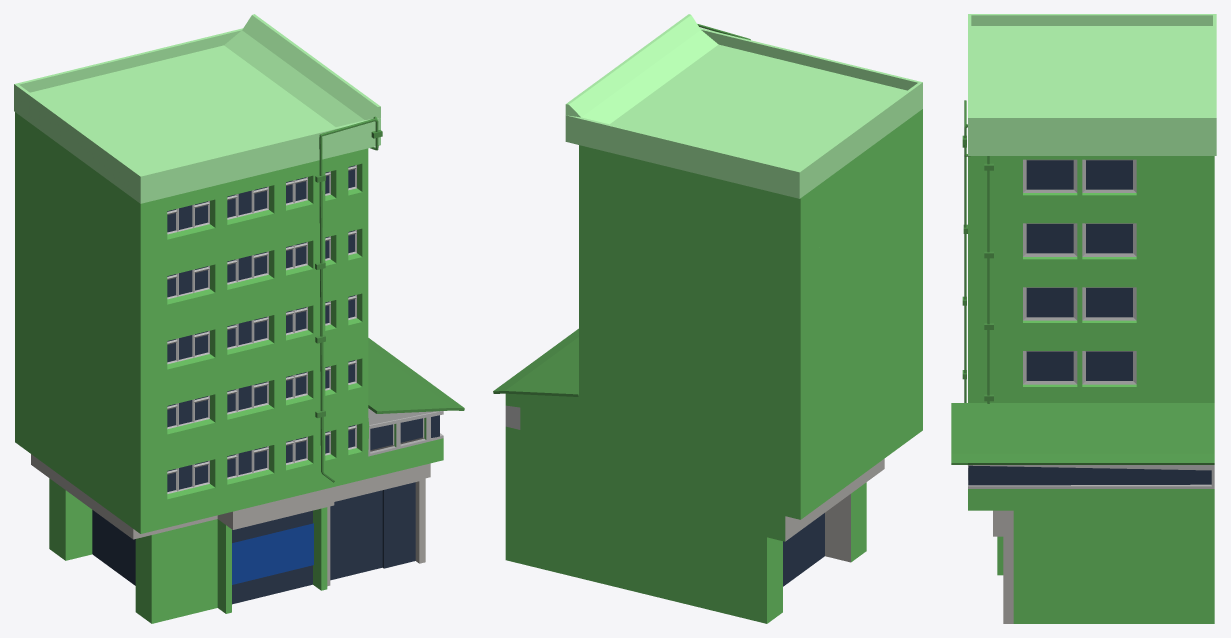
File: B_Old2.fbx
3 renders of one model, left to right at view 1: azimuth 30°, elevation 25°; view 2: azimuth 150°, elevation 25°; view 3: azimuth 270°, elevation 25°, orthographic. The views are drawn at different scales.
Visible parts, largest first — view 1: B.Old2_LOD0; view 2: B.Old2_LOD0; view 3: B.Old2_LOD0.
Part boxes in pixels (x1,y1,x2,y2): B.Old2_LOD0: (14,14,464,623); B.Old2_LOD0: (493,14,922,623); B.Old2_LOD0: (951,14,1216,623).
Size of what is drawn, in the model's own units: 66.2 by 96.95 by 48.94.
